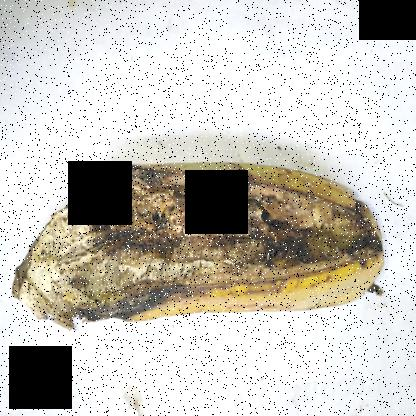rotten: (15, 145, 390, 336)
